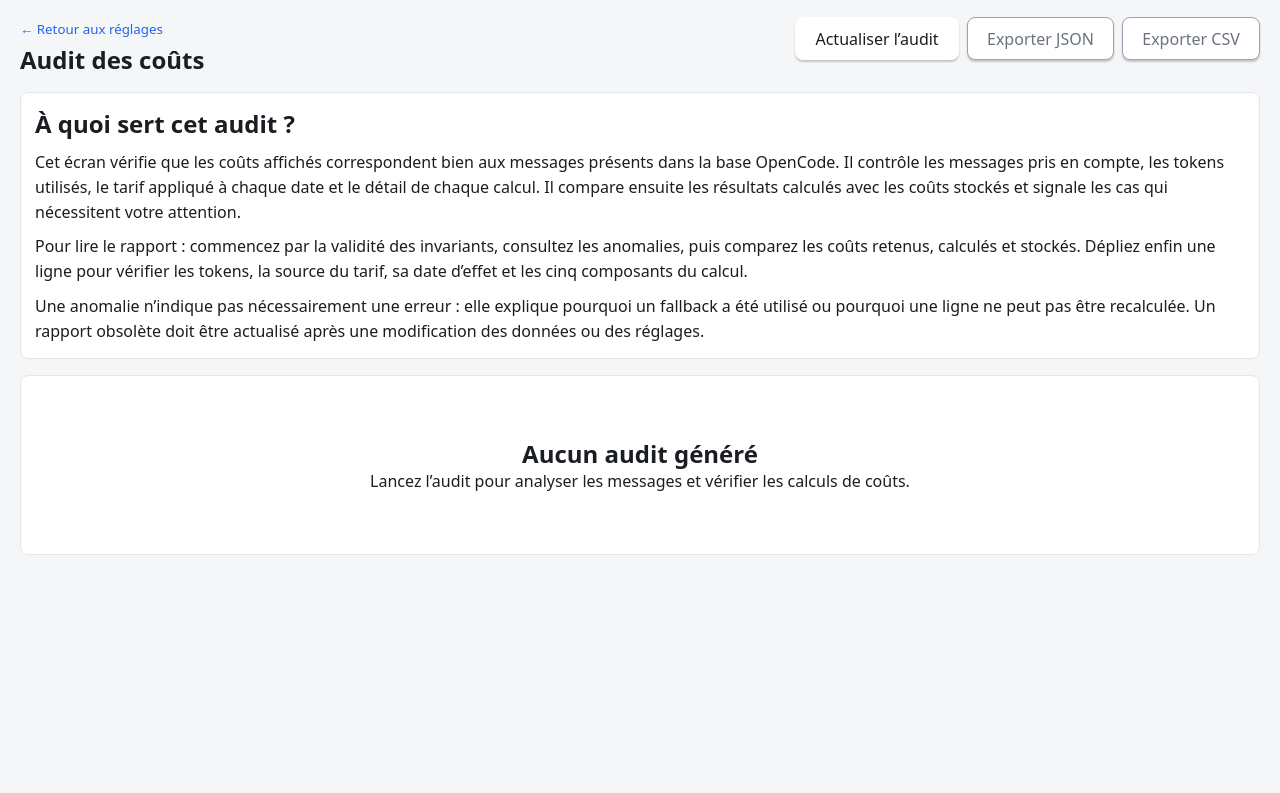
Scenario: AuditView › announces when an expanded message has no failed invariant
The width and height of the screenshot is (1280, 793).
Click the button "Actualiser l’audit".
click(877, 39)  # box [795,17,959,60]
(page scrolled)
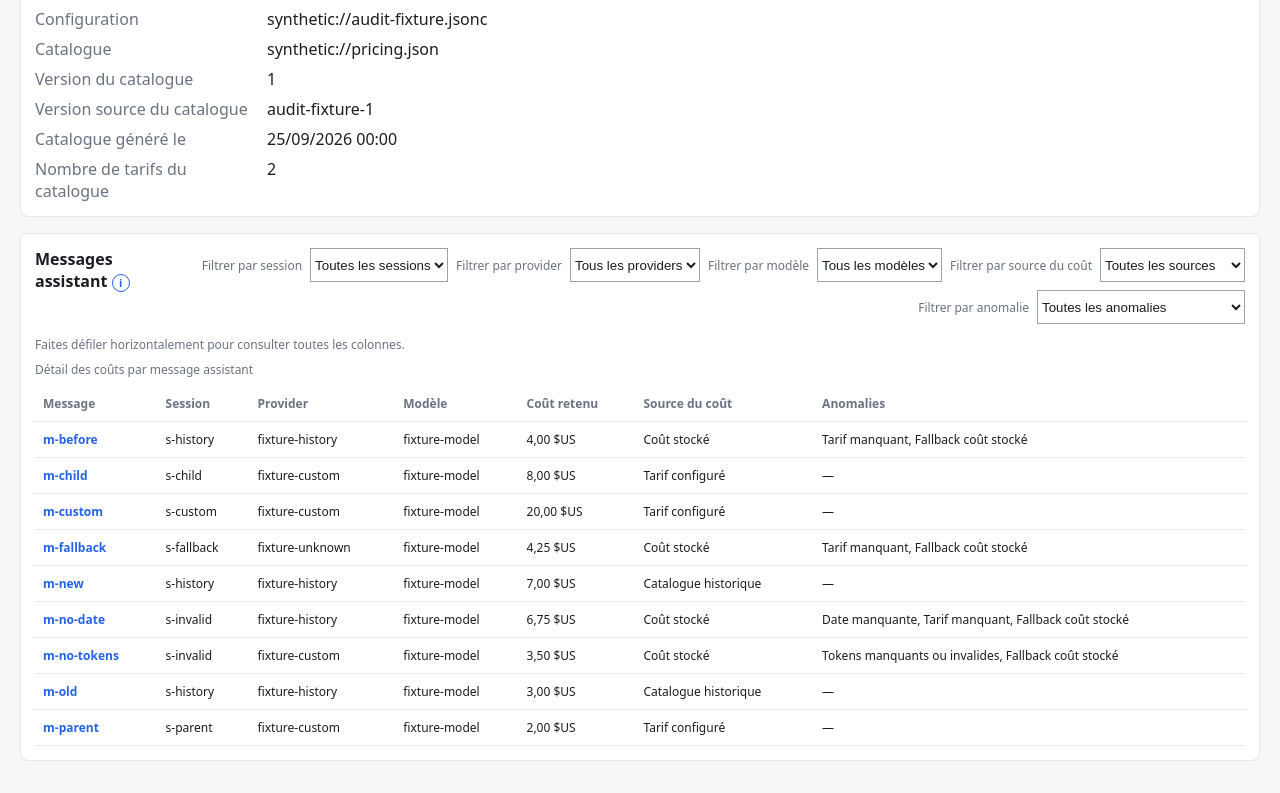
Click the button "m-custom".
click(73, 512)  # box [43,503,103,520]
(page scrolled)
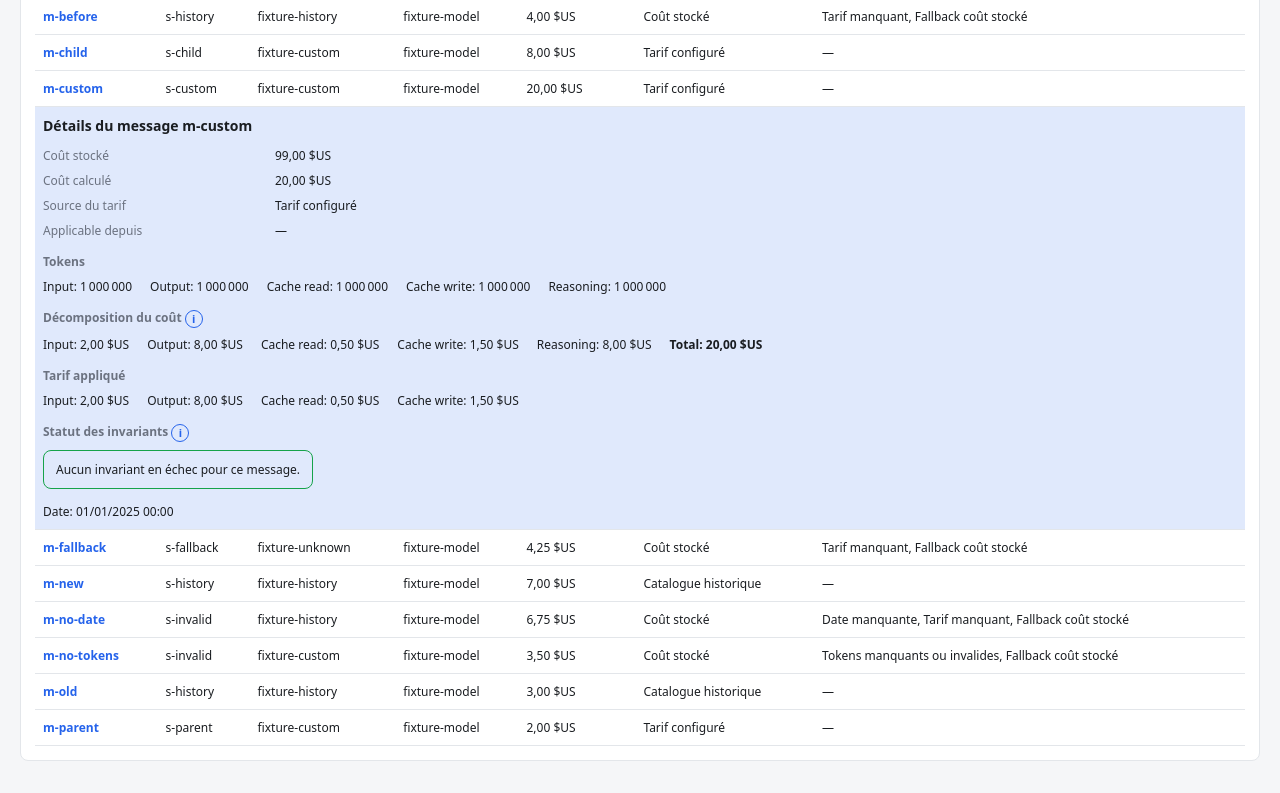
Expected: the message "Aucun invariant en échec pour ce message." is shown, [43,450,313,489]
